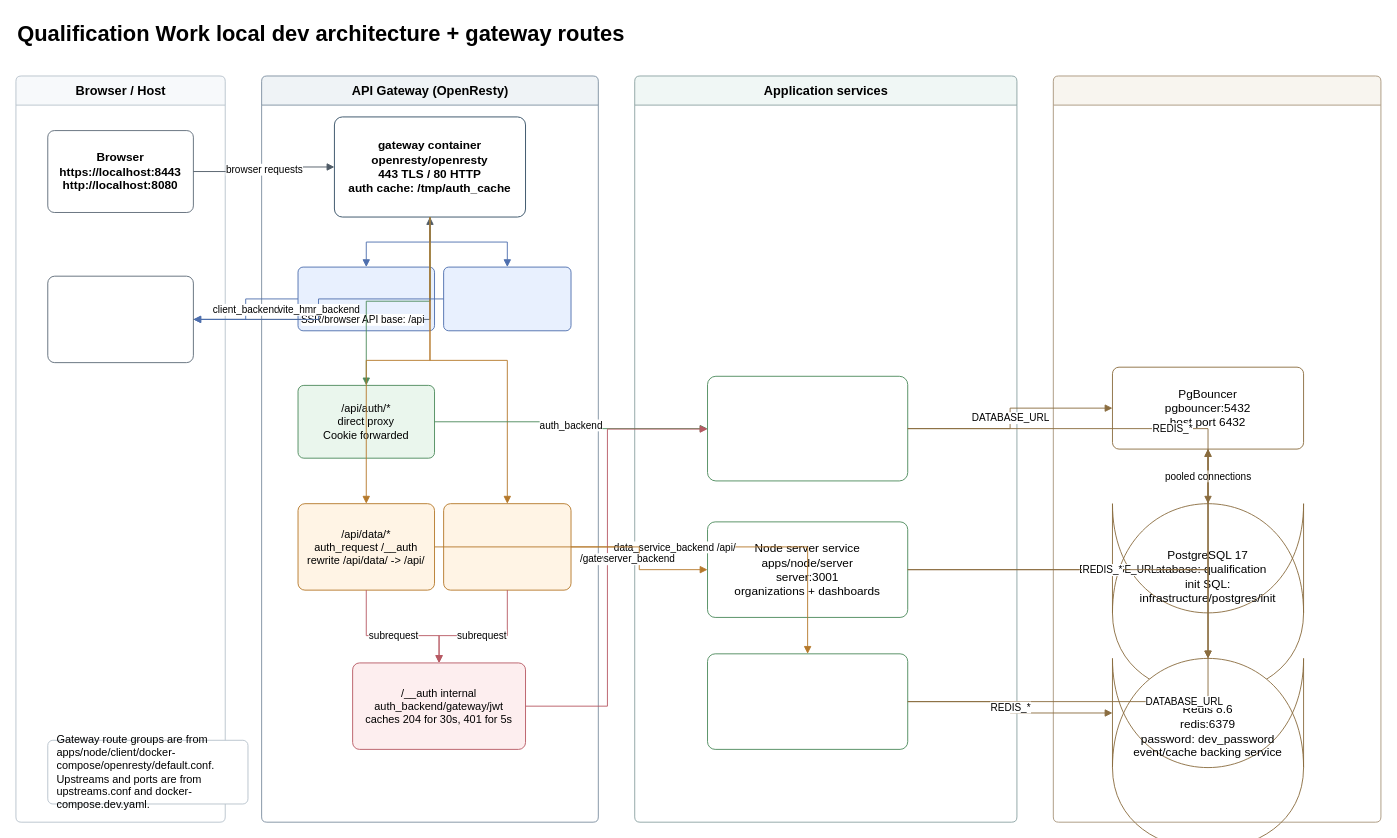
This 1397x838 diagram has some shape labels left out. The box of each missing label's shape, as (x1, y1, x2, y2) in pixels:
/ proxy_pass client_backend: (297, 266, 435, 331)
/_vite-hmr proxy_pass vite_hmr_backend: (443, 266, 571, 331)
/api/* auth_request /__auth X-Internal-Auth forwarded: (443, 503, 571, 590)
Data layer: (1052, 75, 1381, 822)
Go auth service apps/go/auth auth:3002 login/register/me gateway JWT + JWKS: (707, 375, 908, 481)
Node data-service apps/node/data-service data-service:3003 datasets + charts: (707, 653, 908, 749)
React/Vite SSR client apps/node/client host.docker.internal:3000: (47, 275, 193, 363)
